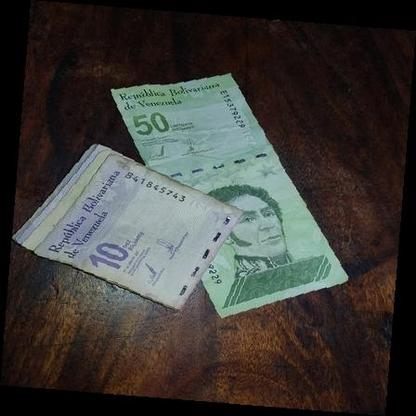fifty-front-vef: (110, 73, 348, 318)
